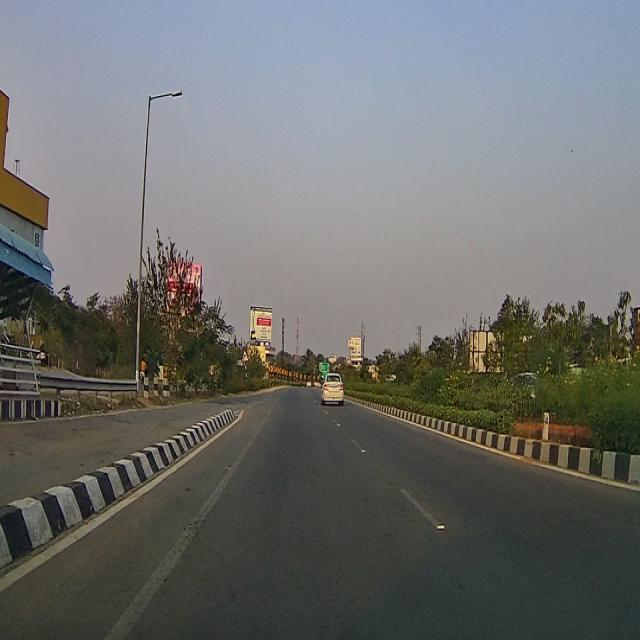right-hand-curve: (240, 348, 248, 363)
